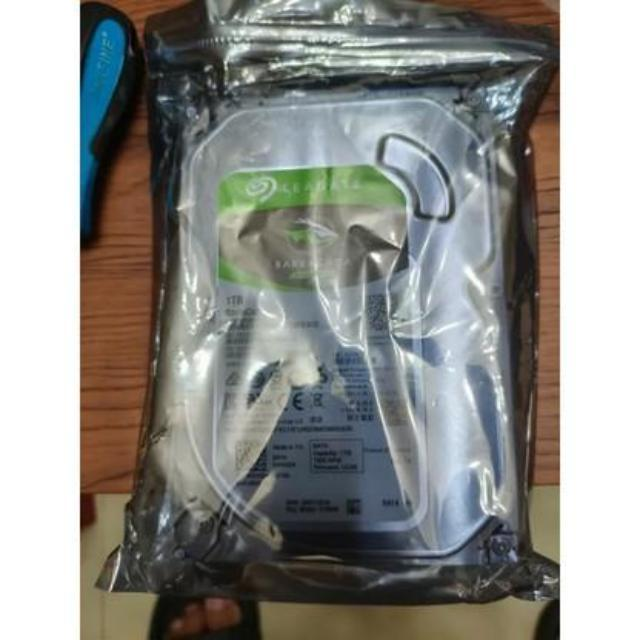DISK: (140, 68, 523, 574)
